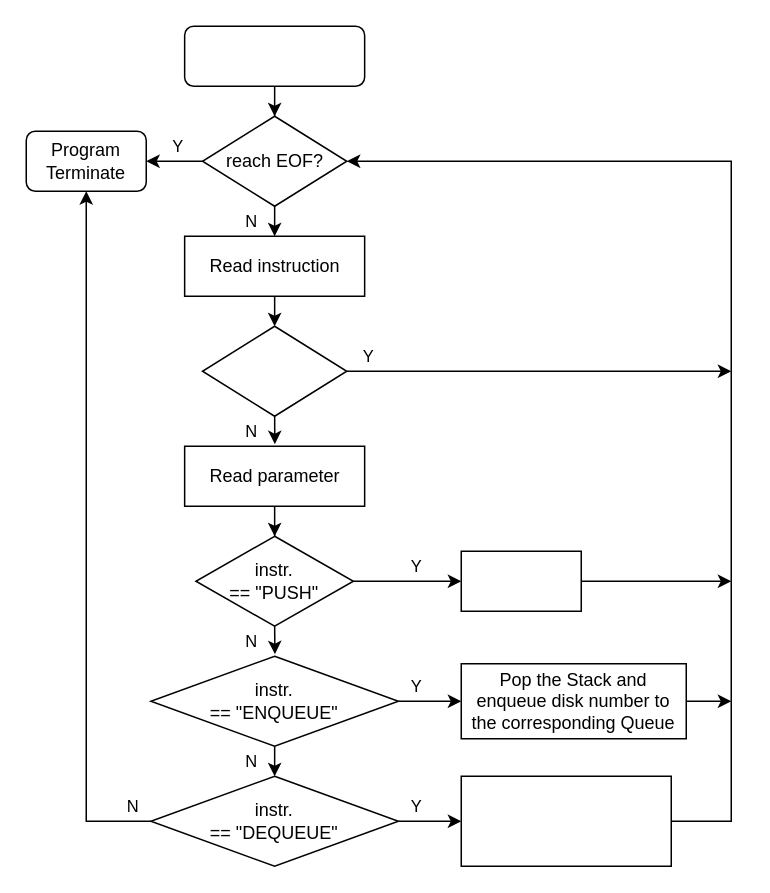
Some shapes in this 770 by 893 pixel diagram are drawn without their labels. Each missing label, with the box of its shape:
Dequeue the corresponding Queue and print the disk number: (460, 775, 671, 866)
instr. == "POP": (201, 325, 347, 416)
Program Start: (183, 25, 365, 86)
Push disk num to Stack: (460, 550, 581, 611)
